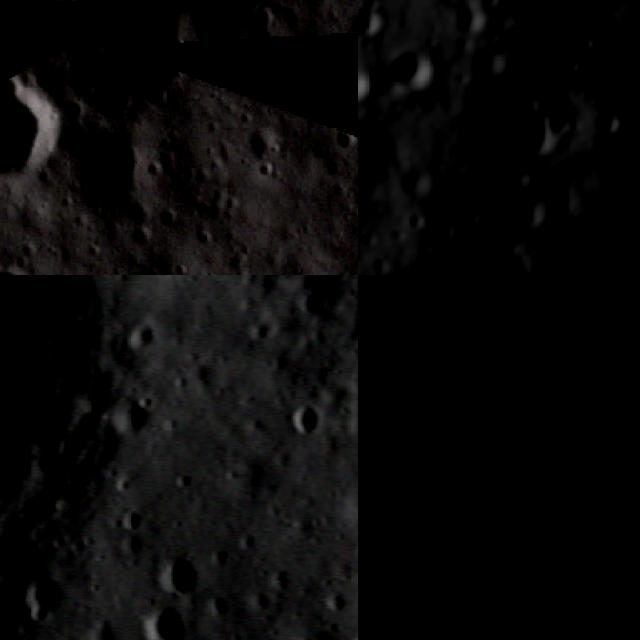crater: (72, 121, 158, 229), (0, 75, 73, 188), (495, 95, 564, 168), (491, 571, 562, 640), (17, 561, 83, 635), (555, 491, 621, 562), (146, 536, 212, 605), (358, 516, 409, 590), (375, 43, 441, 98), (140, 589, 209, 640), (523, 275, 582, 331), (394, 275, 465, 315), (283, 390, 329, 443), (498, 187, 546, 233), (600, 333, 640, 387), (290, 281, 335, 325), (586, 99, 627, 142), (358, 0, 393, 49), (434, 484, 468, 529), (324, 121, 358, 165), (452, 1, 490, 39), (472, 42, 510, 78), (547, 613, 586, 640), (552, 48, 582, 78), (358, 62, 370, 105)
